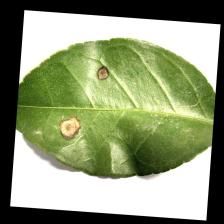canker: (49, 55, 129, 154)
